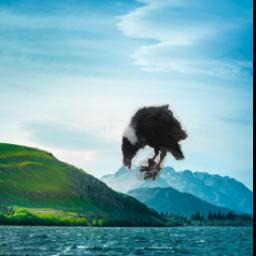Crow: (122, 103, 189, 181)
